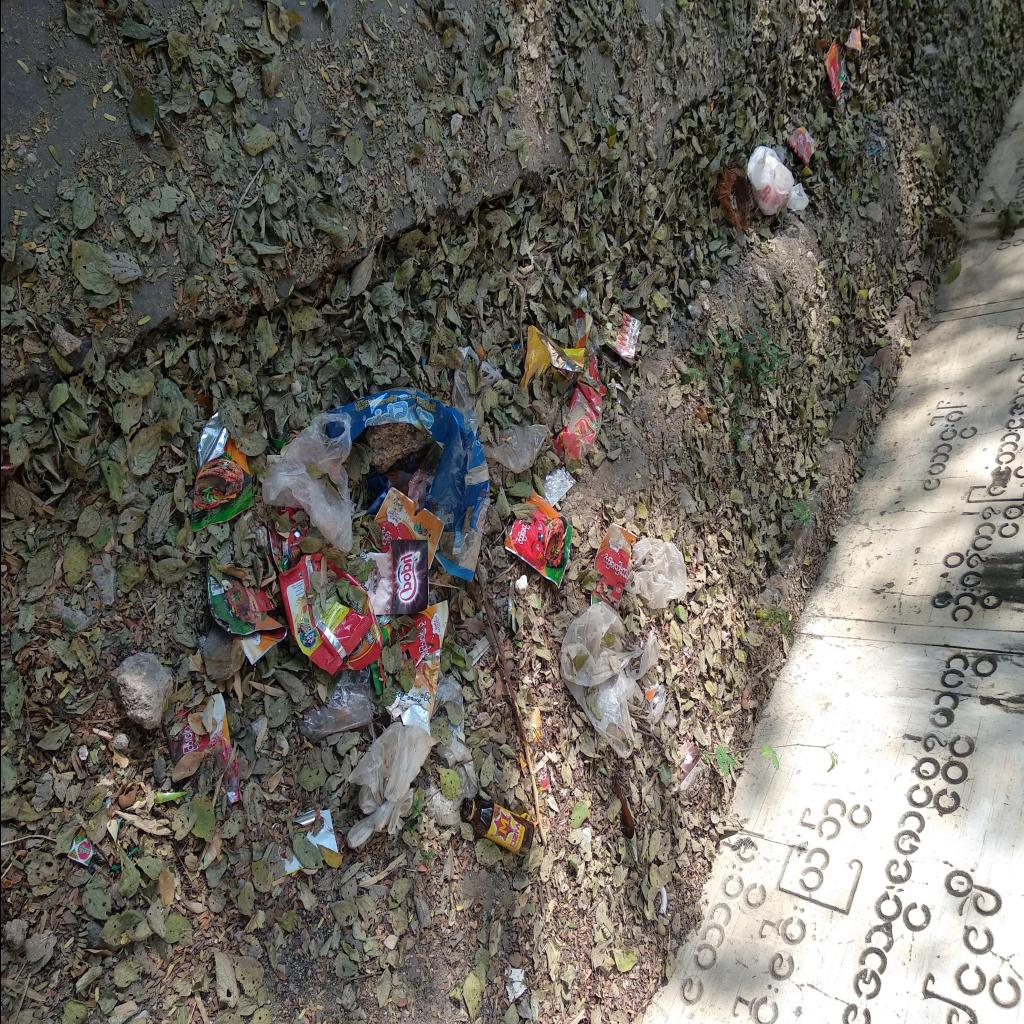Other plastic: (204, 506, 306, 666), (190, 409, 252, 531), (385, 601, 447, 719), (504, 491, 572, 589), (365, 486, 444, 570), (551, 349, 607, 463), (360, 540, 428, 614), (517, 324, 584, 392), (167, 695, 229, 762), (590, 522, 636, 612), (278, 808, 338, 876), (556, 304, 592, 380), (518, 706, 548, 792), (362, 471, 410, 515), (606, 311, 640, 362), (824, 38, 846, 100), (786, 126, 816, 168), (64, 827, 94, 866), (678, 738, 701, 788), (402, 706, 430, 735), (433, 675, 461, 703), (468, 636, 490, 666), (846, 28, 860, 60)
Plastic film: (326, 388, 490, 582), (558, 600, 664, 760), (261, 412, 355, 552), (346, 721, 436, 847), (299, 666, 371, 744), (624, 538, 686, 610), (746, 146, 808, 216), (428, 741, 478, 825), (450, 347, 504, 407), (482, 425, 546, 473), (202, 732, 240, 802)
Unlabeled litter: (540, 462, 576, 508)
